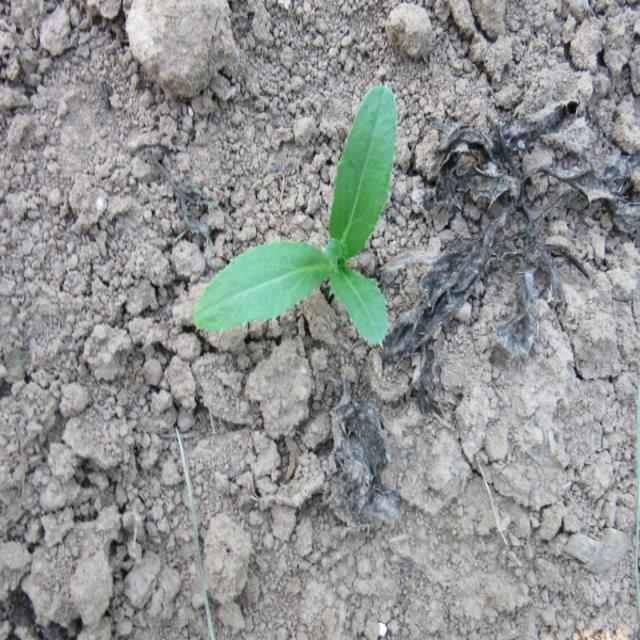cs: (190, 82, 399, 351)
